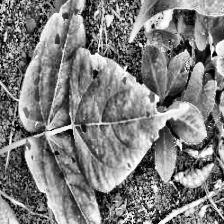ALS: (76, 52, 176, 186), (19, 0, 88, 125), (24, 139, 84, 187)
